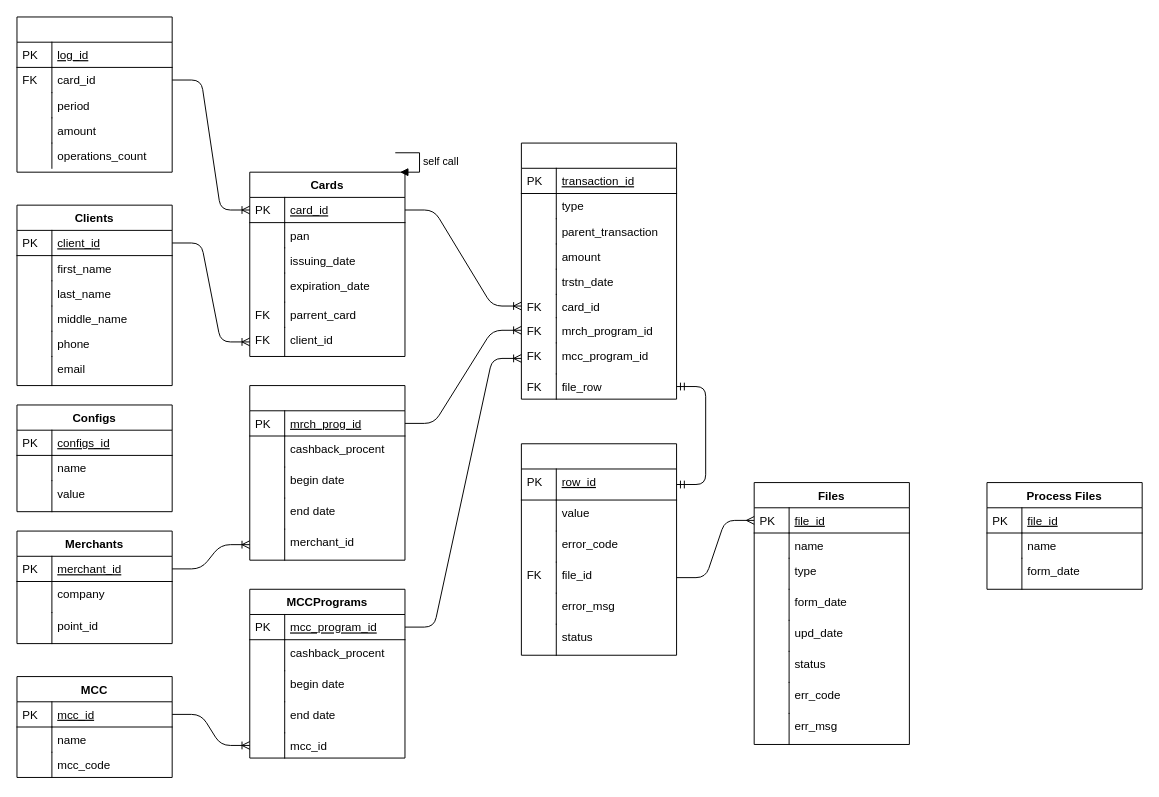
Some shapes in this 1159 by 797 pixel diagram are drawn without their labels. The box of each missing label's shape, as (x1, y1, x2, y2) in pixels:
CashbackLog: (16, 16, 172, 172)
File_data: (520, 443, 677, 655)
MerchantsPrograms: (249, 385, 405, 560)
Transactions: (520, 142, 677, 399)
